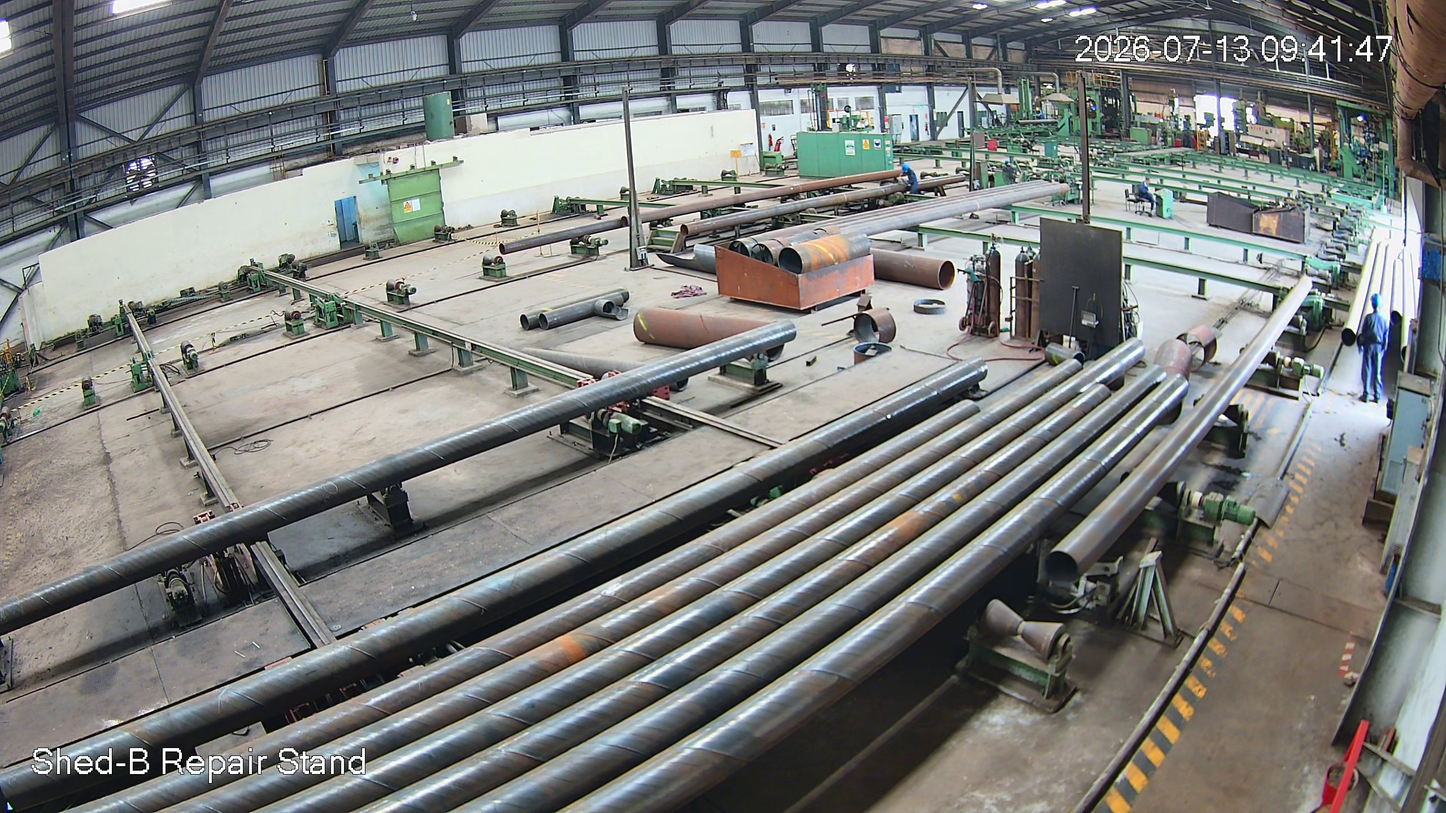Helmet: (1368, 294, 1385, 317)
Person: (1356, 295, 1386, 407)
